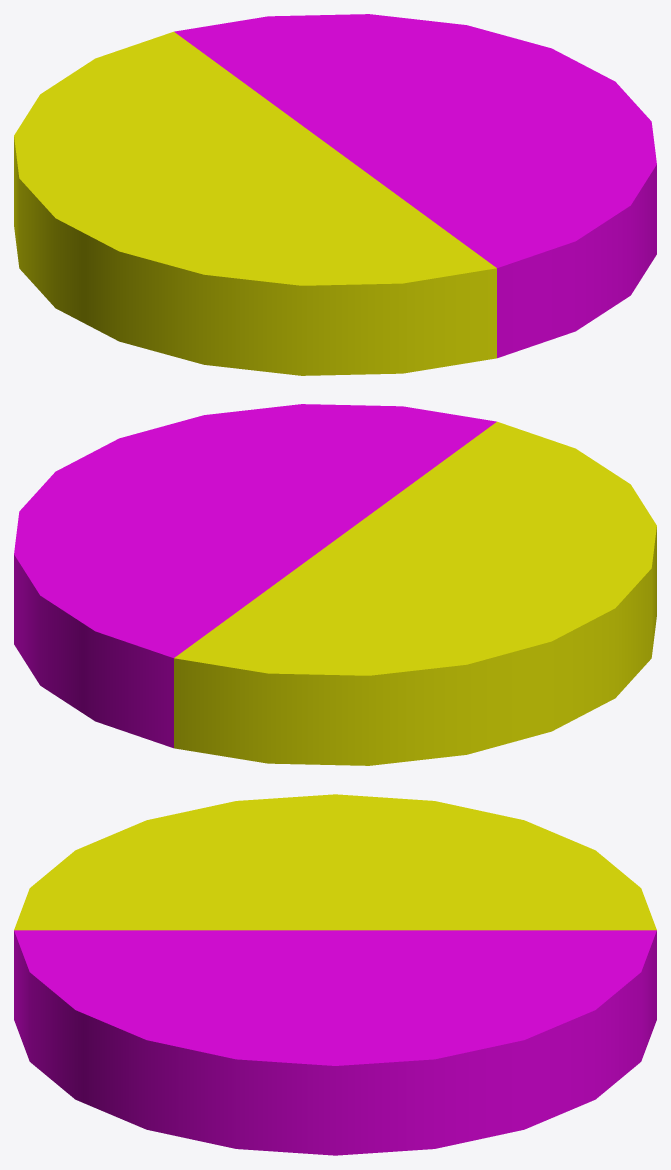
File: 2_renk_sari_pembe.fbx
The picture shows the model from 3 angles, top to bottom: view 1: azimuth 30°, elevation 25°; view 2: azimuth 150°, elevation 25°; view 3: azimuth 270°, elevation 25°; orthographic projection.
Visible parts, largest first — view 1: pCylinder6; view 2: pCylinder6; view 3: pCylinder6.
Boxes of the visible parts, left/top/right/bottom form: pCylinder6: left=14, top=14, right=656, bottom=375; pCylinder6: left=14, top=404, right=656, bottom=765; pCylinder6: left=14, top=794, right=656, bottom=1155.
Bounding box in the file's own units: 6.28 × 0.9651 × 6.28.
